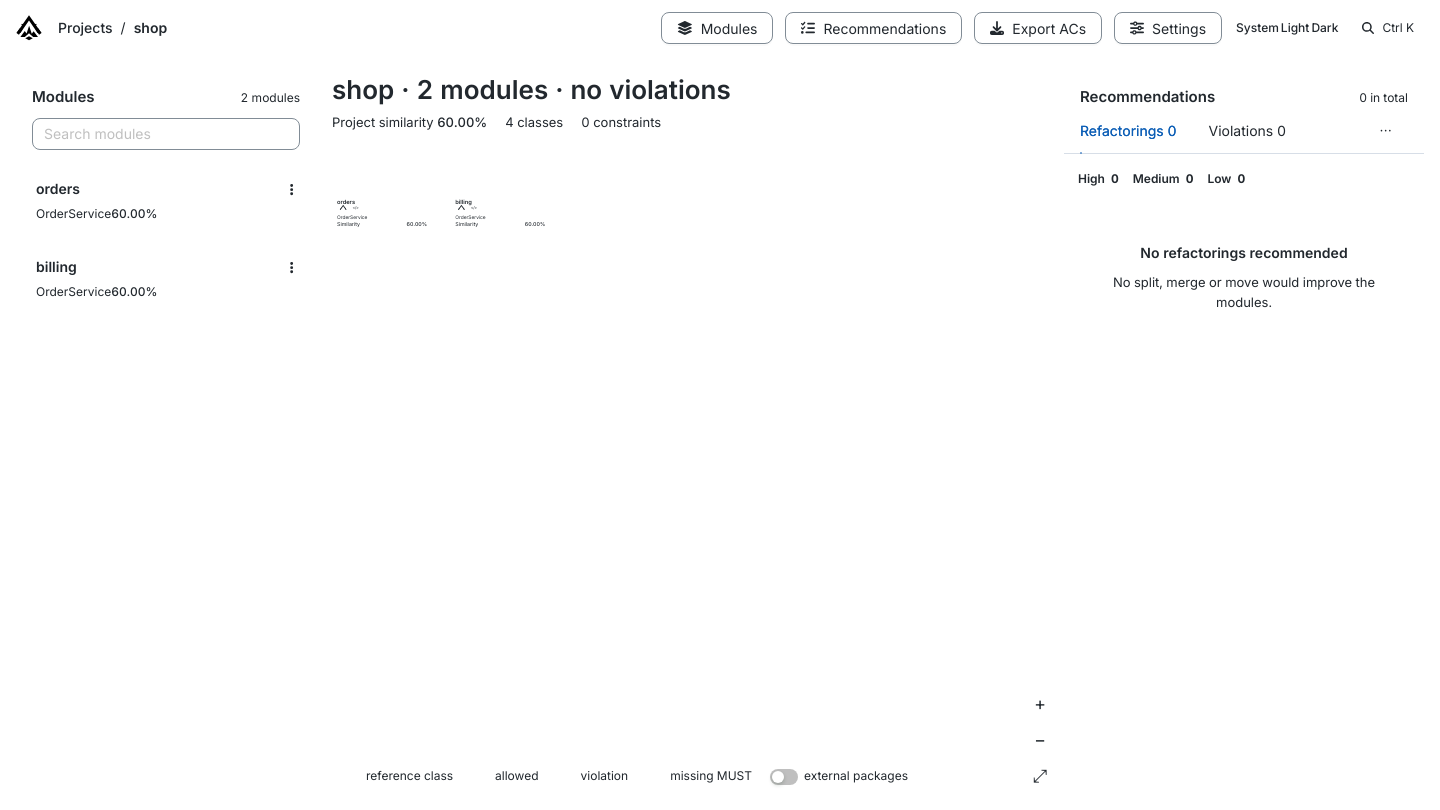
AnalyzePage › previews the constraints of the modules on screen before exporting them
Click the button "Export ACs". click: (1038, 28)
box: [974,12,1102,44]
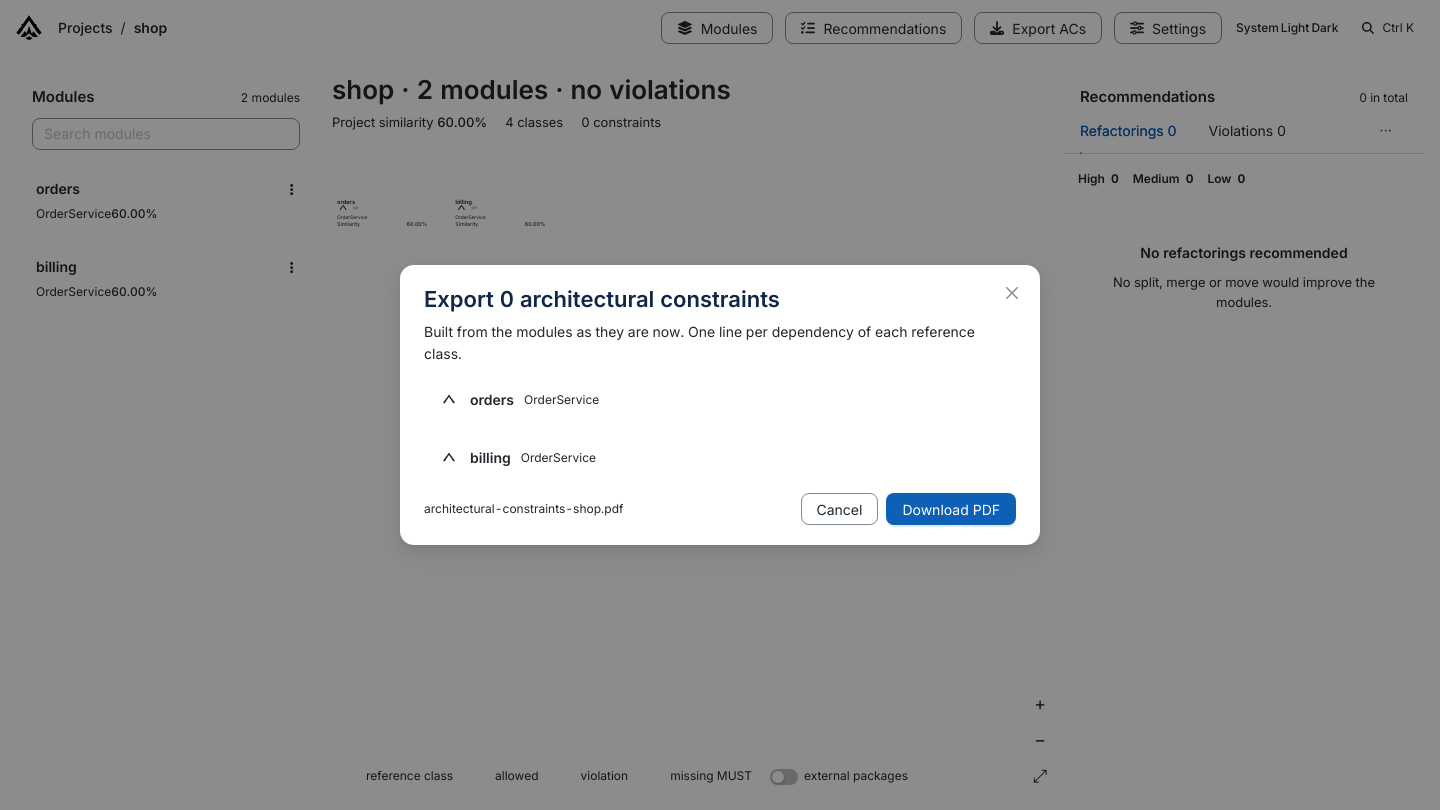
Expected: the element "orders" is shown, [443,391,599,408]
Expected: the element "billing" is shown, [443,449,596,466]
Expected: the button "Download PDF" is shown, [886,493,1016,525]
